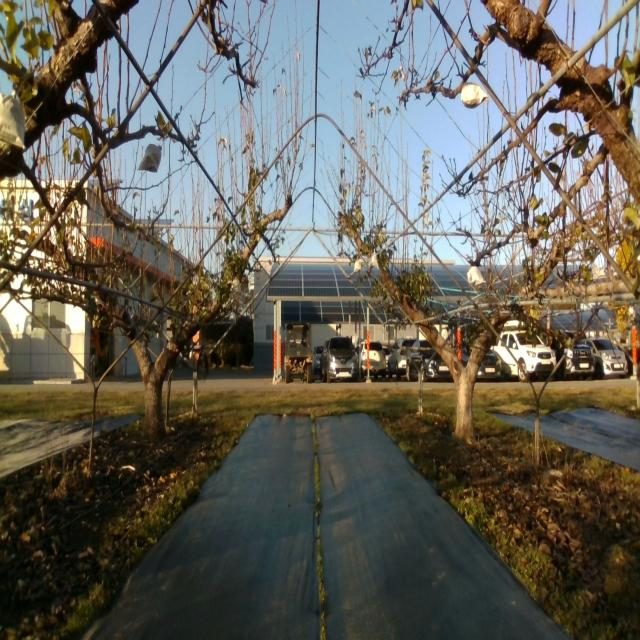pearbags: (0, 91, 26, 148), (137, 142, 162, 173), (461, 82, 488, 108), (467, 266, 486, 287)
